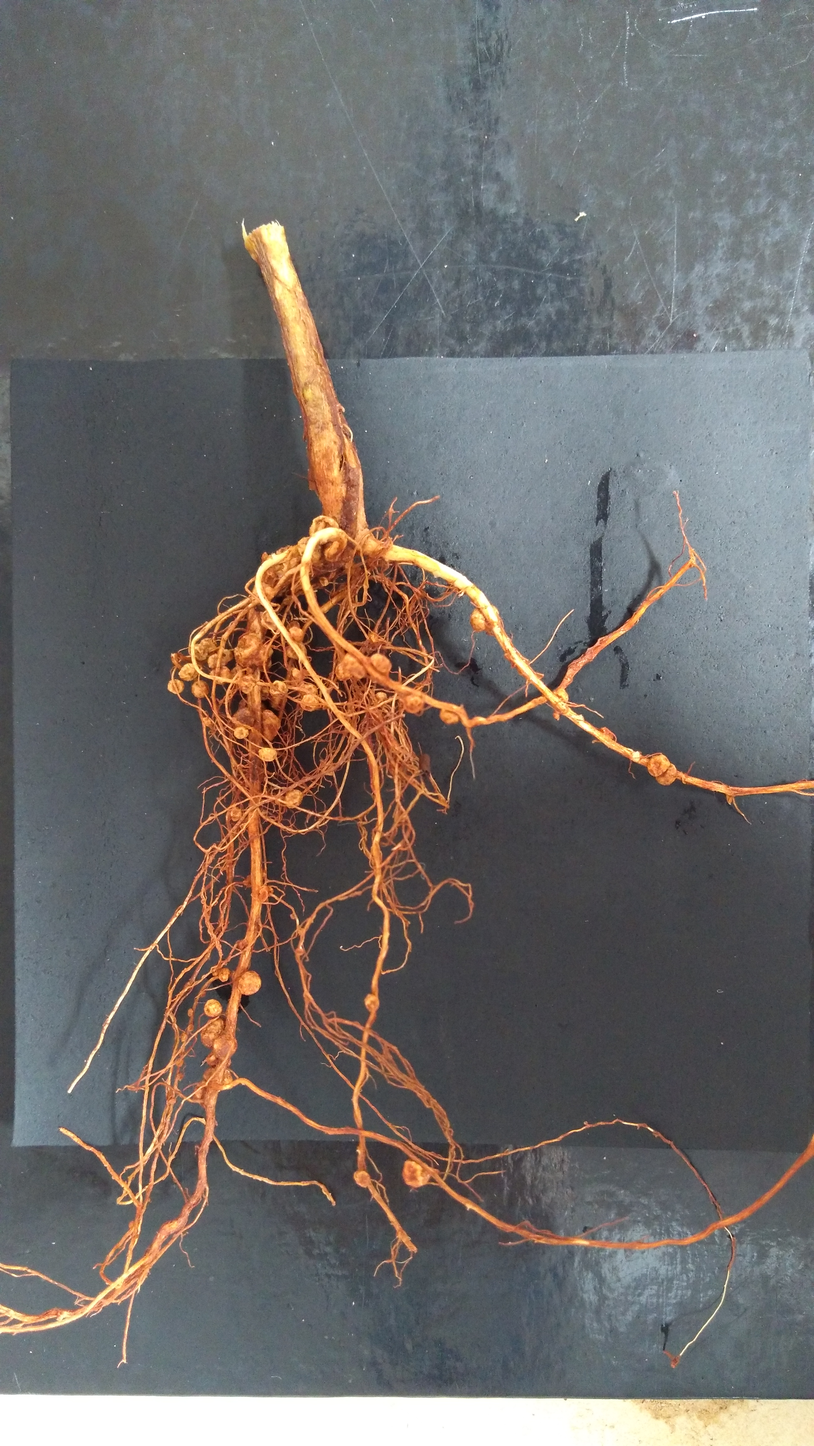nodule: (233, 634, 262, 668), (261, 551, 286, 587), (309, 515, 339, 544), (402, 1157, 431, 1187), (470, 604, 500, 632), (200, 1017, 225, 1048), (342, 651, 368, 680), (260, 709, 281, 743), (369, 653, 392, 684), (297, 536, 322, 564), (276, 545, 302, 571), (212, 1033, 238, 1059), (323, 535, 347, 561), (192, 638, 218, 661), (202, 1067, 233, 1086), (237, 971, 261, 995), (207, 649, 235, 669), (230, 708, 255, 730), (647, 754, 670, 777), (334, 582, 356, 605), (655, 763, 677, 786), (207, 664, 231, 685), (254, 644, 274, 669), (248, 610, 267, 635), (402, 692, 424, 713), (284, 641, 307, 661), (260, 609, 280, 631), (178, 662, 201, 681), (193, 1080, 208, 1108), (205, 1051, 231, 1067), (249, 582, 273, 599), (348, 561, 364, 586), (237, 673, 257, 693), (439, 707, 461, 725), (299, 693, 320, 711), (334, 662, 353, 681), (287, 666, 305, 686), (285, 789, 303, 809), (191, 680, 210, 698), (269, 680, 288, 698), (211, 711, 229, 730), (204, 999, 223, 1017), (364, 631, 379, 653), (231, 665, 245, 688), (298, 682, 317, 698), (269, 694, 287, 710), (364, 993, 380, 1011), (354, 1170, 370, 1188), (258, 747, 277, 762), (341, 544, 354, 563), (259, 679, 270, 701), (226, 806, 242, 821), (553, 688, 569, 702), (598, 726, 614, 740), (289, 627, 304, 641), (258, 884, 269, 903), (233, 726, 249, 739), (286, 620, 300, 632), (218, 967, 230, 981), (242, 874, 253, 888), (273, 795, 287, 805), (376, 692, 389, 702), (319, 576, 329, 587), (238, 699, 249, 709), (202, 716, 213, 726), (179, 1031, 189, 1042), (173, 1057, 183, 1067), (238, 940, 248, 949), (283, 596, 292, 605), (266, 885, 273, 895), (261, 869, 267, 880), (245, 666, 253, 674), (552, 711, 560, 719), (212, 967, 219, 976), (177, 1072, 184, 1081), (297, 927, 304, 935), (199, 990, 206, 998), (187, 1024, 194, 1032), (128, 1220, 135, 1228), (167, 1098, 176, 1104), (188, 1008, 194, 1016), (341, 617, 347, 624), (290, 913, 296, 919), (341, 406, 345, 412)
